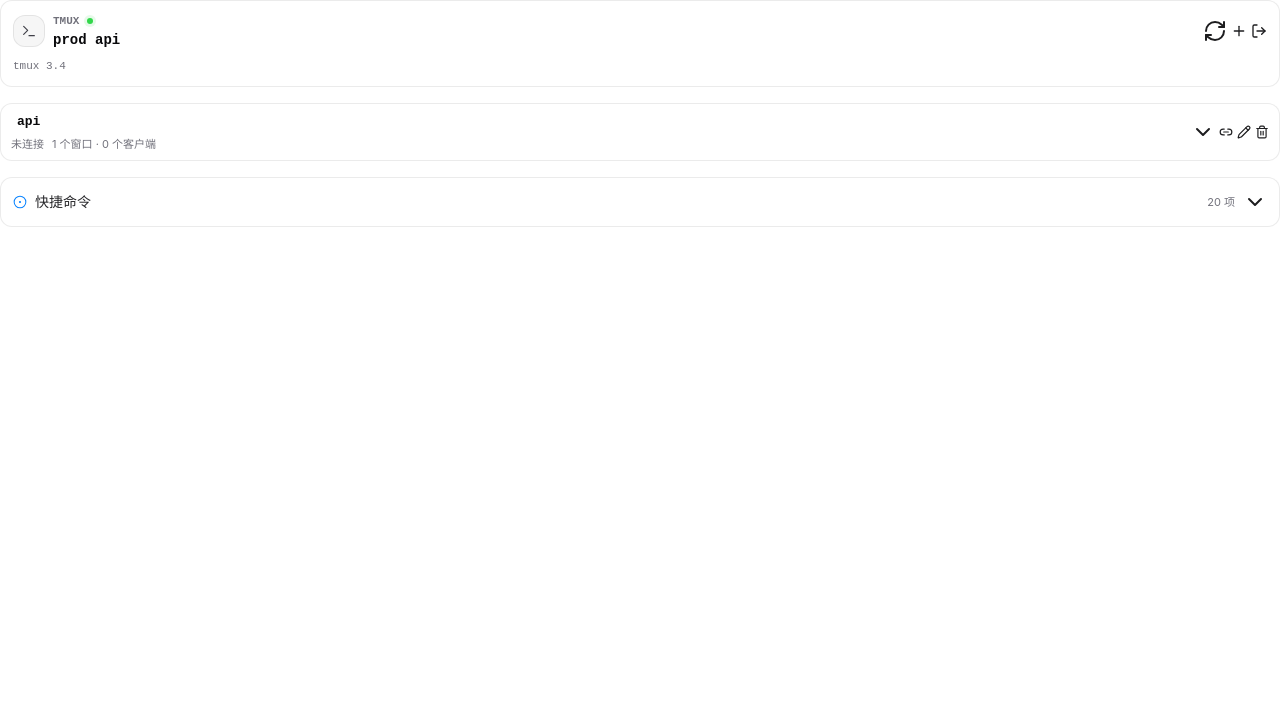
TmuxToolContent › closes a target-bound dialog when the selected target changes
Step 1. Click the button named "新建会话" → (1239, 31), box x1=1231 y1=23 x2=1247 y2=39
(page scrolled)
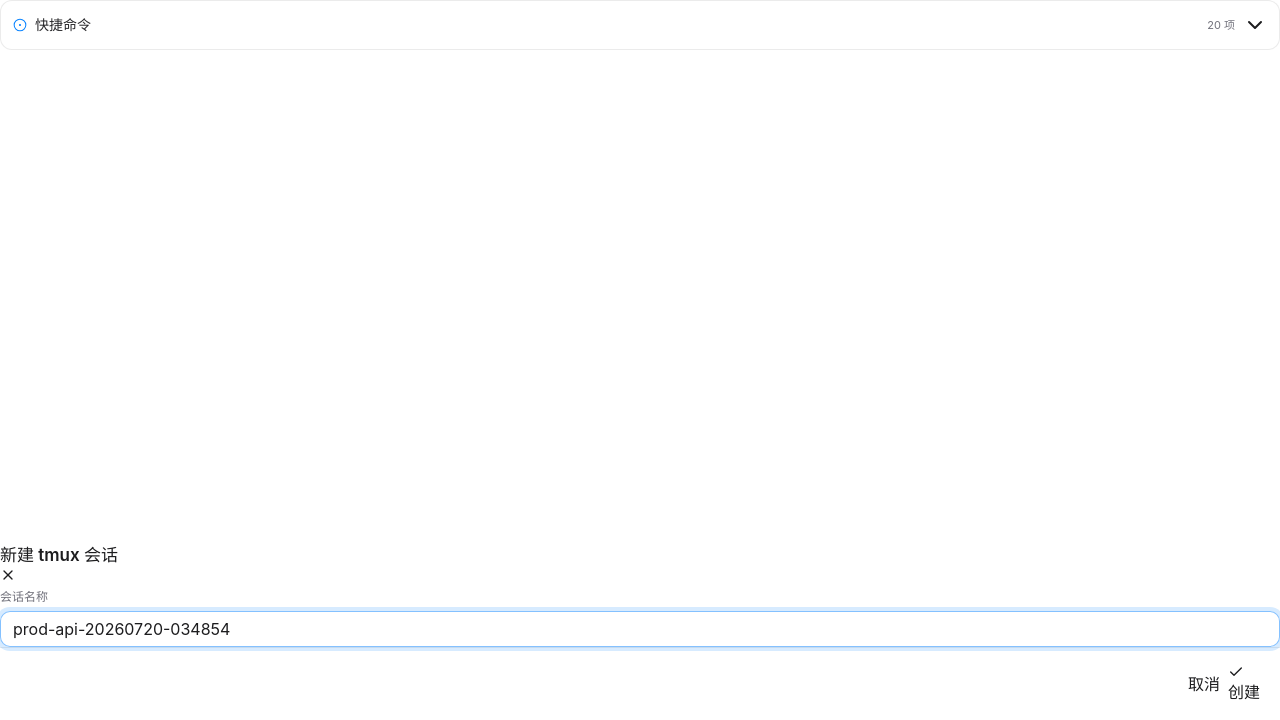
Result: the dialog "新建 tmux 会话" is shown at x1=0 y1=543 x2=1279 y2=719
